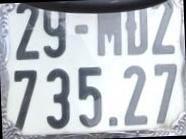-: (74, 23, 89, 36)
.: (107, 117, 118, 127)
2: (15, 4, 41, 62), (123, 66, 148, 126), (152, 0, 175, 56)
3: (45, 69, 72, 129)
5: (78, 66, 102, 129)
7: (13, 69, 37, 133), (152, 64, 178, 123)
9: (44, 7, 69, 59)
D: (125, 7, 149, 57)
M: (95, 11, 123, 58)
